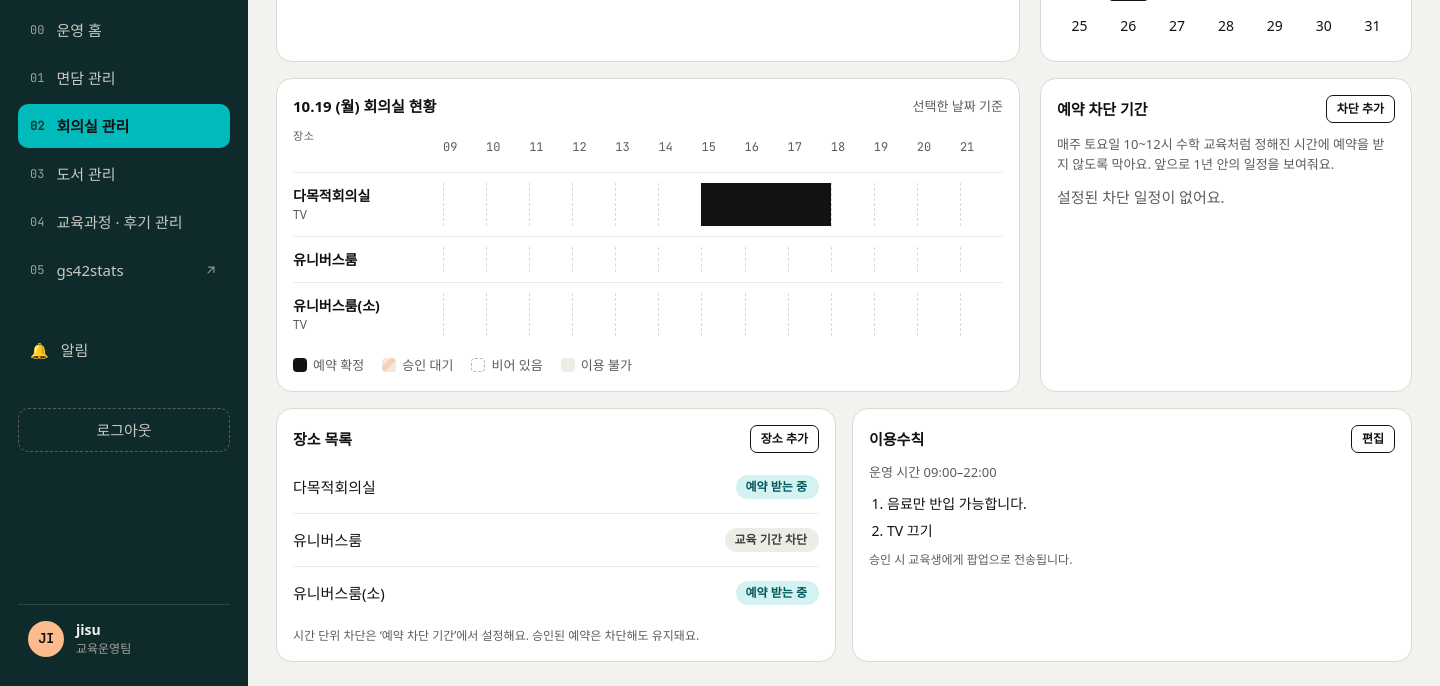
Test: 운영 회의실 관리 화면 › 이용수칙과 운영 시간을 편집해 저장한다
The width and height of the screenshot is (1440, 686).
(page scrolled)
Click the button "편집". click: [1373, 439]
box: [1351,425,1395,453]
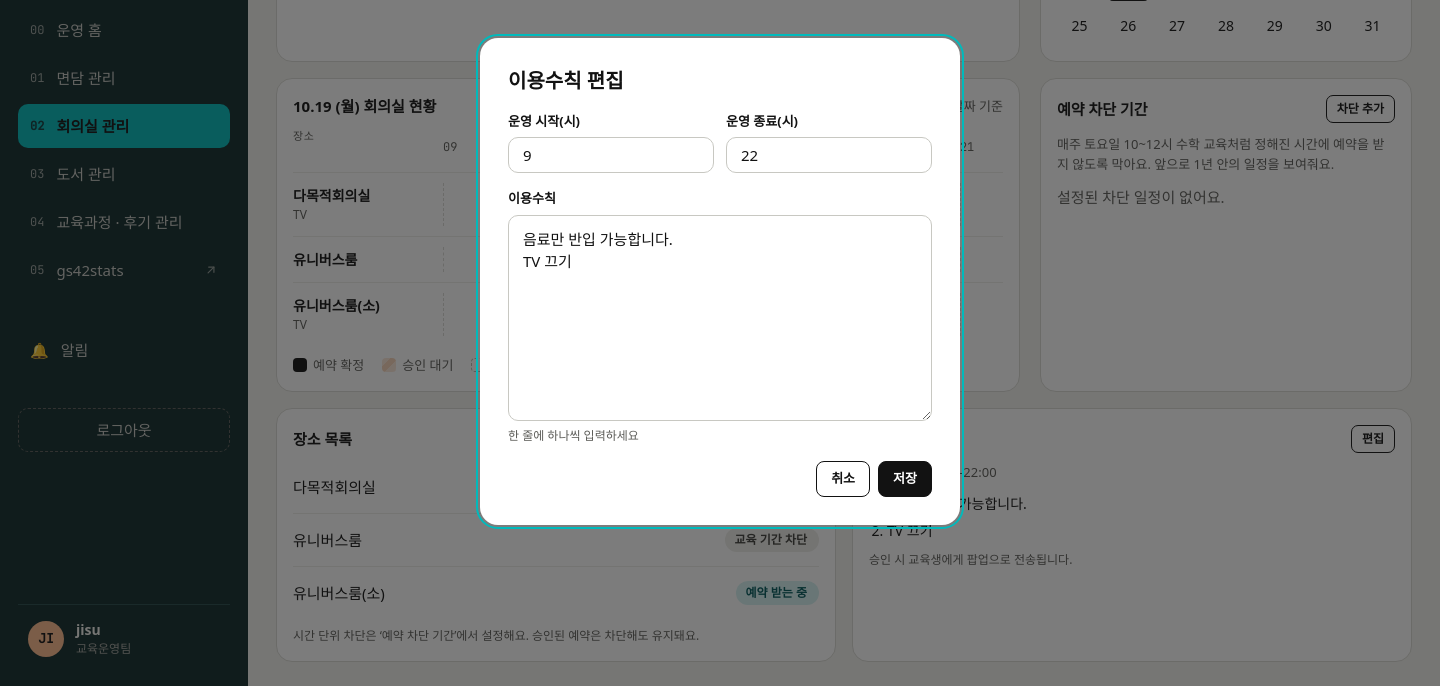
Replace the text in the text box labelled "이용수칙" with "쓰레기 치우기". click: [720, 318]
box: [508,214,932,420]
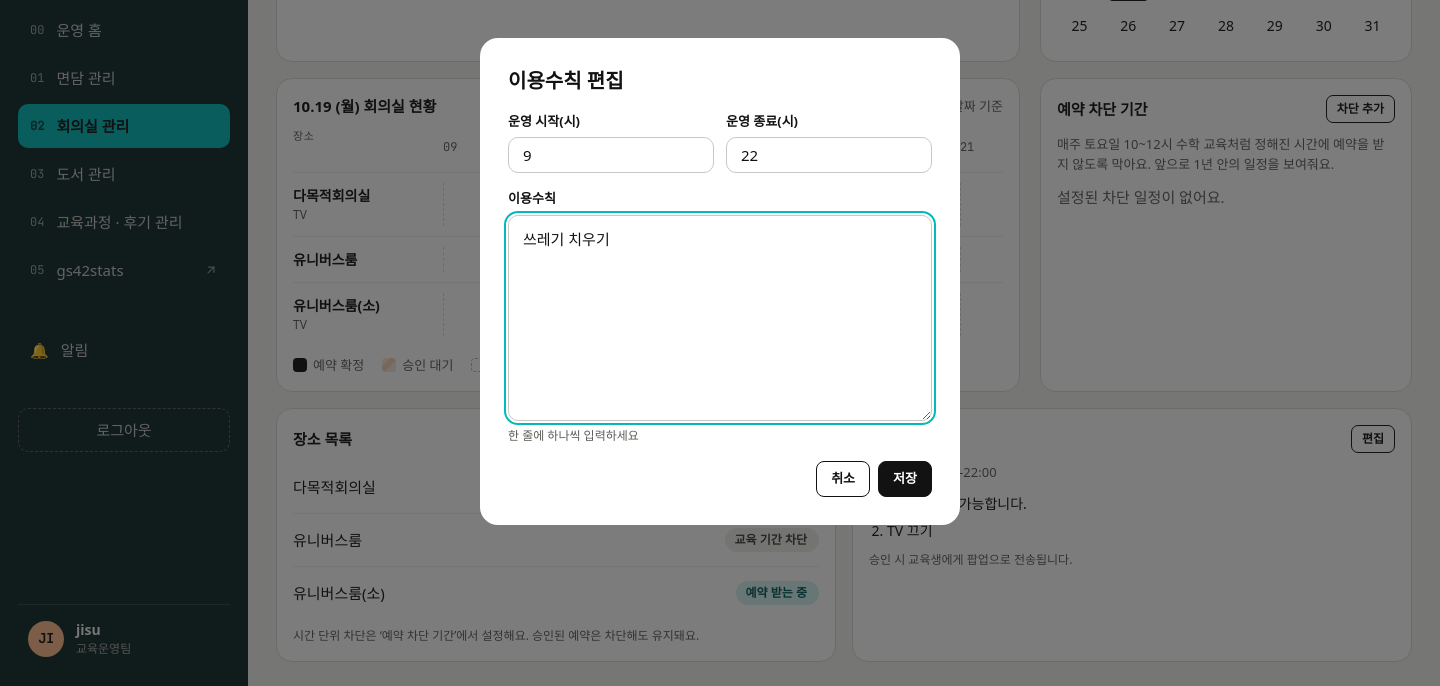
Click the button "저장". click: [905, 478]
box: [878,460,932,496]
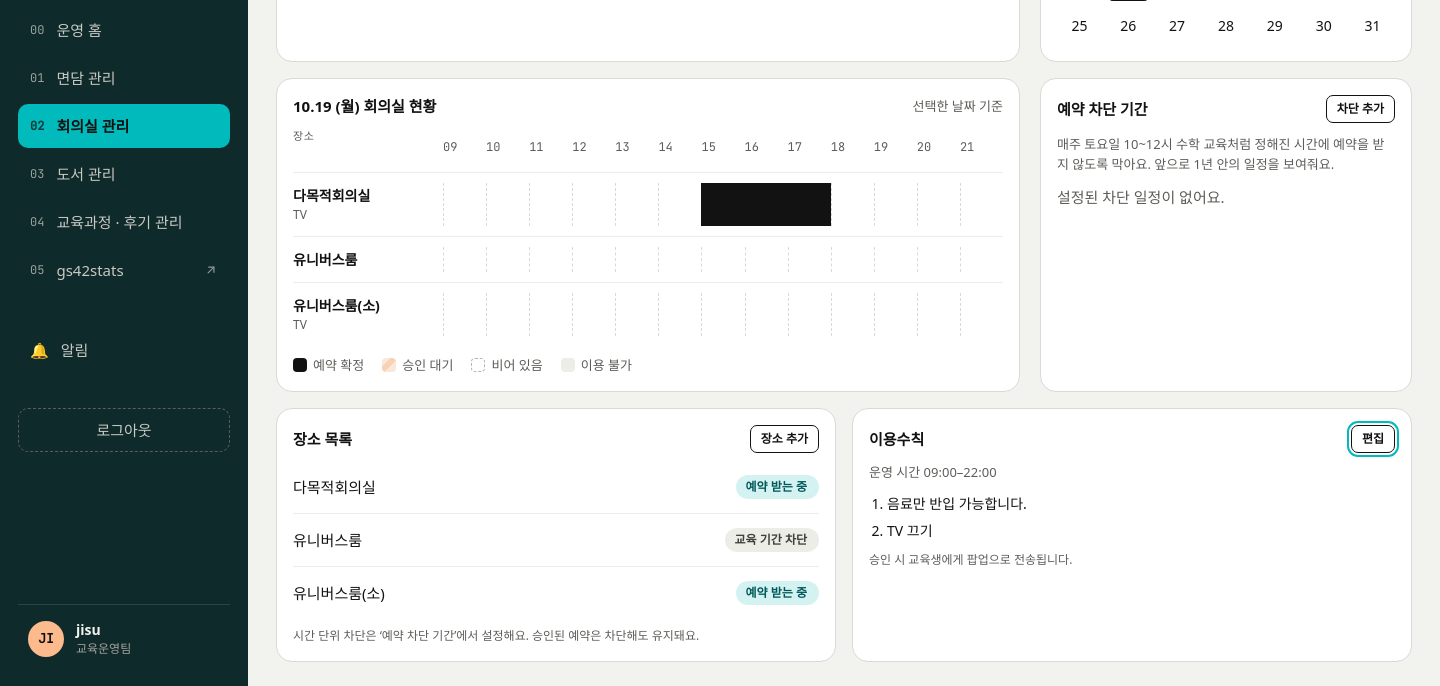
Check: the dialog is gone
